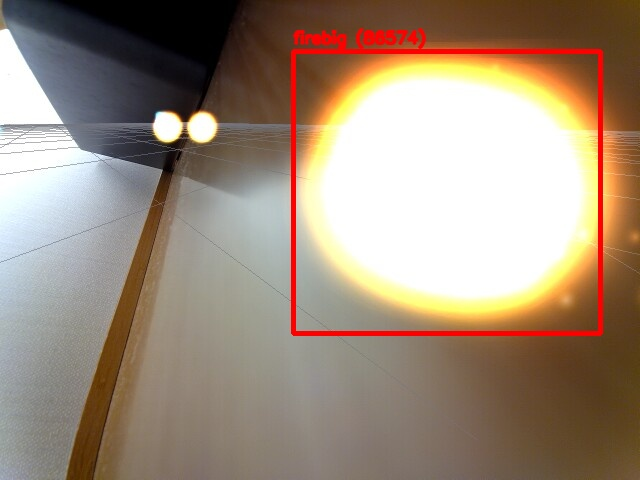firebig: (293, 51, 600, 333)
